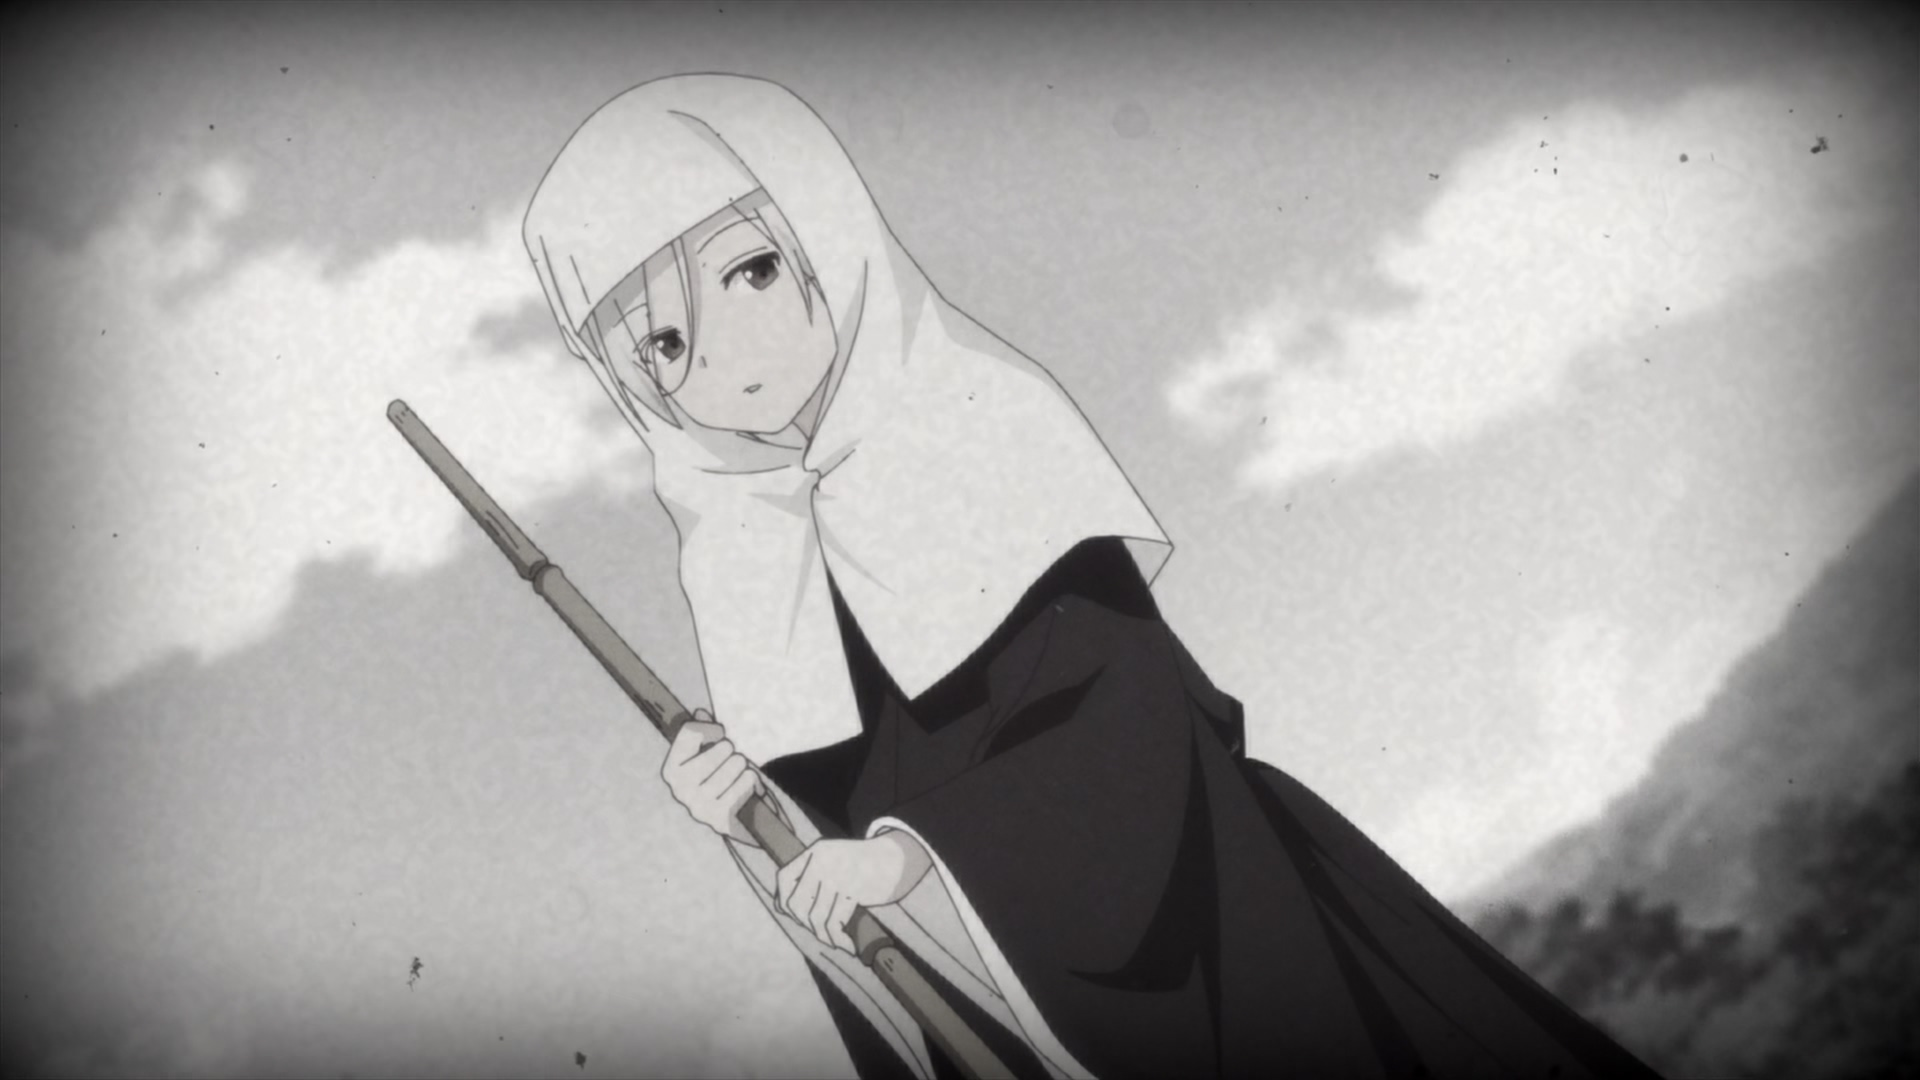八百比丘尼: (521, 73, 1665, 1080)
